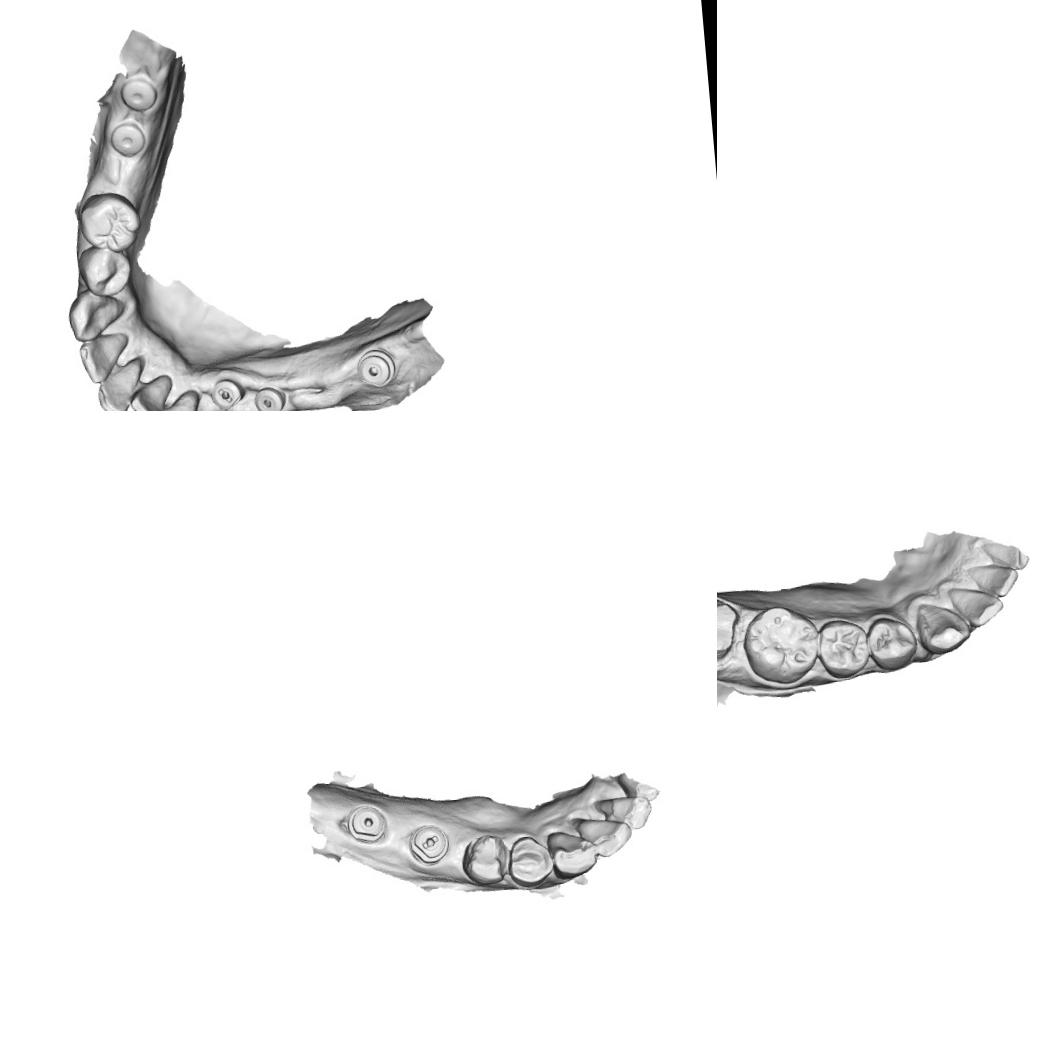canine: (64, 284, 129, 342), (913, 596, 972, 656), (546, 826, 598, 881)
crown: (717, 589, 743, 666)
implant: (343, 799, 391, 846), (352, 345, 400, 390), (116, 74, 162, 112), (106, 120, 146, 158), (251, 382, 290, 411)
implant_minus: (404, 820, 451, 870), (208, 376, 246, 411)
incisor: (75, 330, 134, 386), (572, 808, 634, 859), (92, 356, 147, 411), (944, 582, 1006, 630), (592, 791, 654, 834), (965, 558, 1021, 600), (127, 371, 176, 411), (976, 538, 1029, 573), (147, 387, 204, 411)
molar: (738, 601, 823, 688)
premolar: (76, 188, 144, 255), (815, 616, 871, 680), (74, 241, 134, 299), (864, 613, 919, 672), (456, 831, 510, 888), (505, 831, 553, 888)
